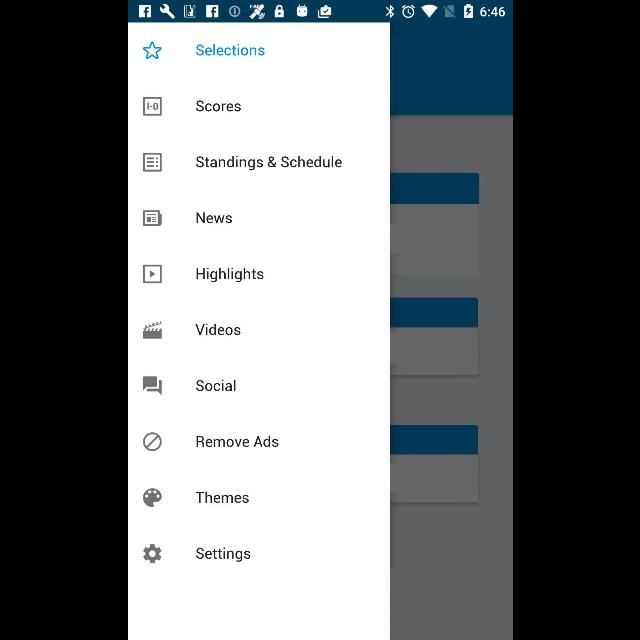icon: (142, 376, 162, 396), (142, 264, 162, 284), (142, 152, 162, 172), (143, 544, 161, 564), (142, 41, 162, 59), (142, 210, 162, 226)
image: (142, 488, 162, 508), (142, 432, 162, 452), (142, 96, 162, 115), (142, 321, 162, 339)
panel: (127, 22, 389, 640)
text: (195, 156, 341, 170), (195, 435, 278, 447), (195, 268, 262, 282), (196, 44, 264, 56), (196, 548, 250, 562), (196, 491, 248, 503), (194, 323, 240, 335), (196, 100, 240, 112), (195, 379, 235, 391), (196, 212, 232, 224)
uppertaskbar: (128, 1, 512, 23)
